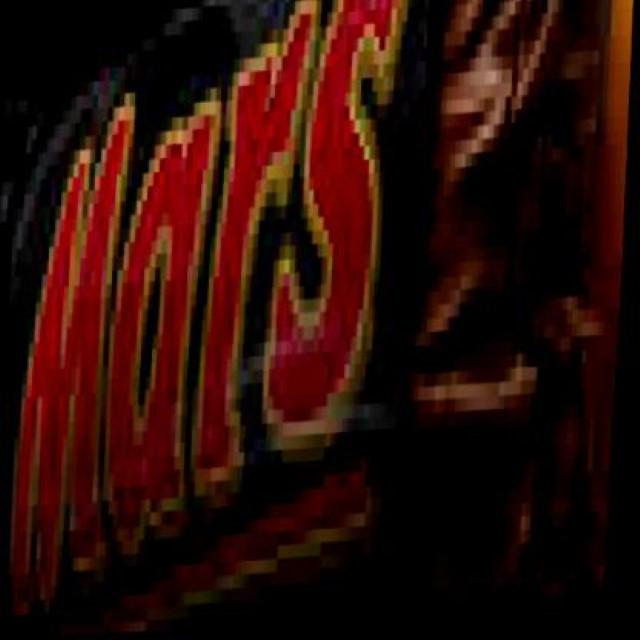mars_chocolate: (22, 36, 573, 546)
